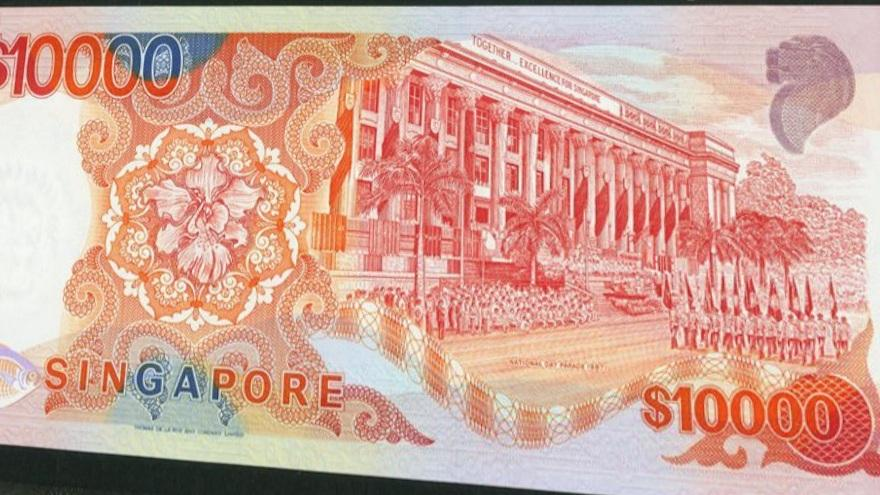10000SingaporeDollar: (0, 9, 880, 477)
